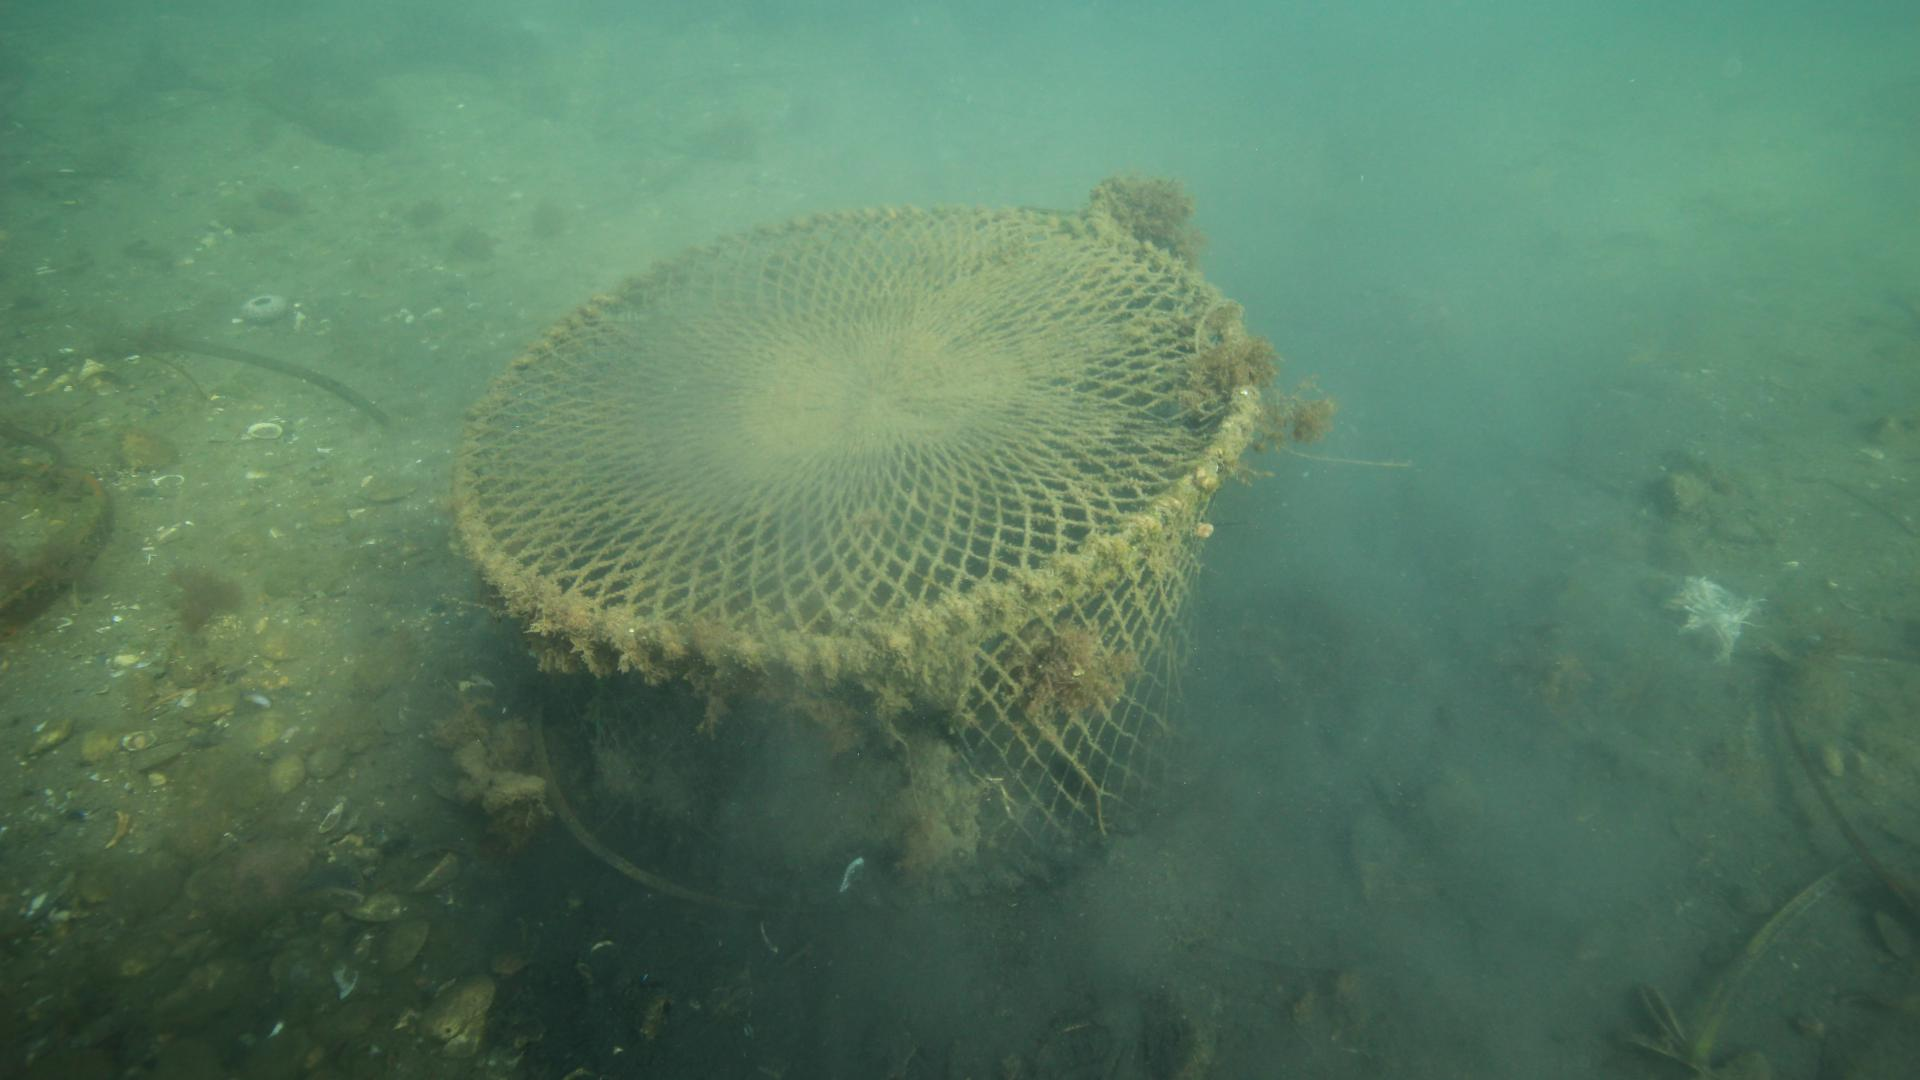circular fish trap: (448, 204, 1261, 907)
